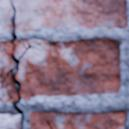brick: (31, 111, 125, 128), (0, 114, 21, 128)
broken_brick: (17, 38, 121, 100), (0, 0, 128, 32), (0, 40, 11, 82), (0, 76, 16, 102)
crack: (0, 2, 43, 126), (51, 41, 56, 44)
